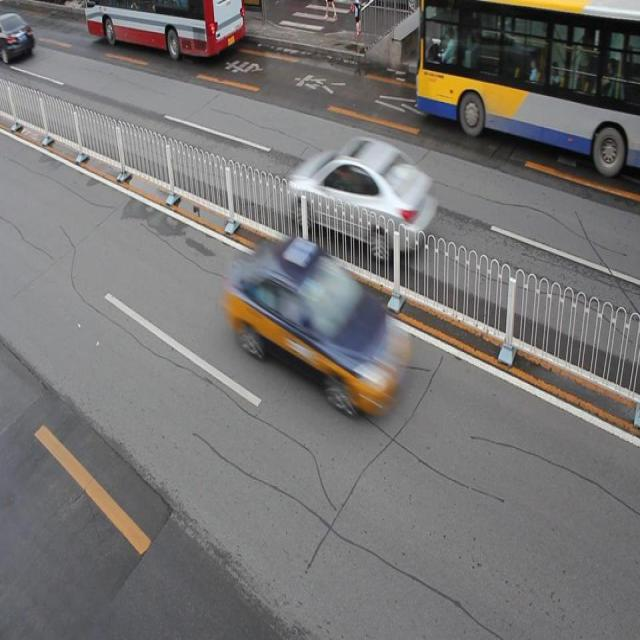car: (236, 234, 410, 414), (290, 136, 435, 260), (1, 12, 36, 66)
van: (415, 1, 640, 178), (88, 1, 247, 64)
